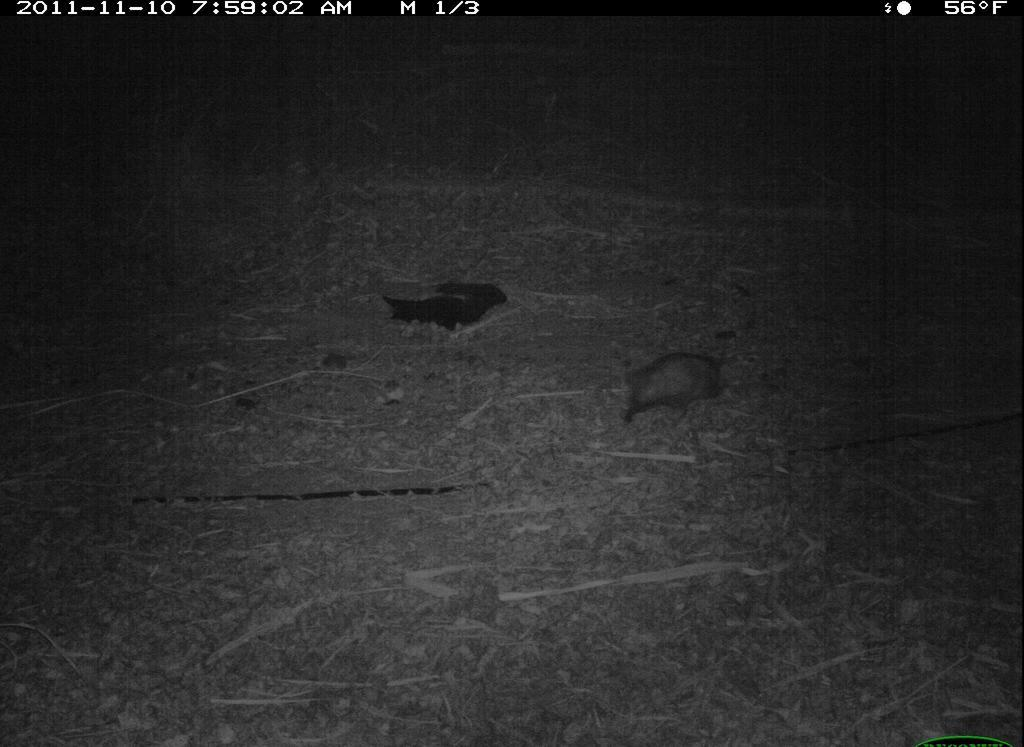opossum: (615, 351, 742, 427)
